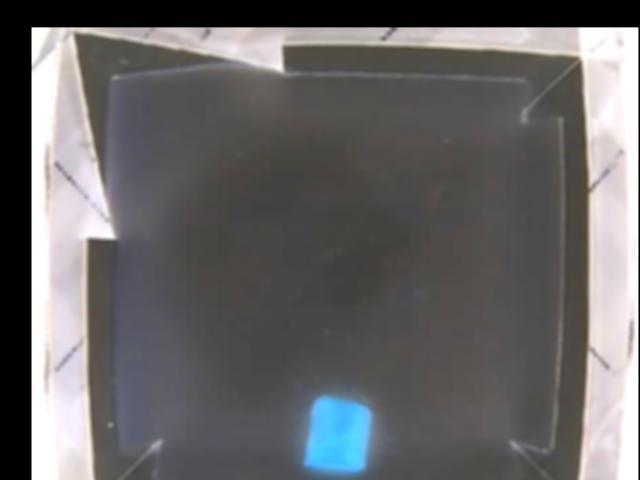Carrot: (303, 395, 373, 470)
